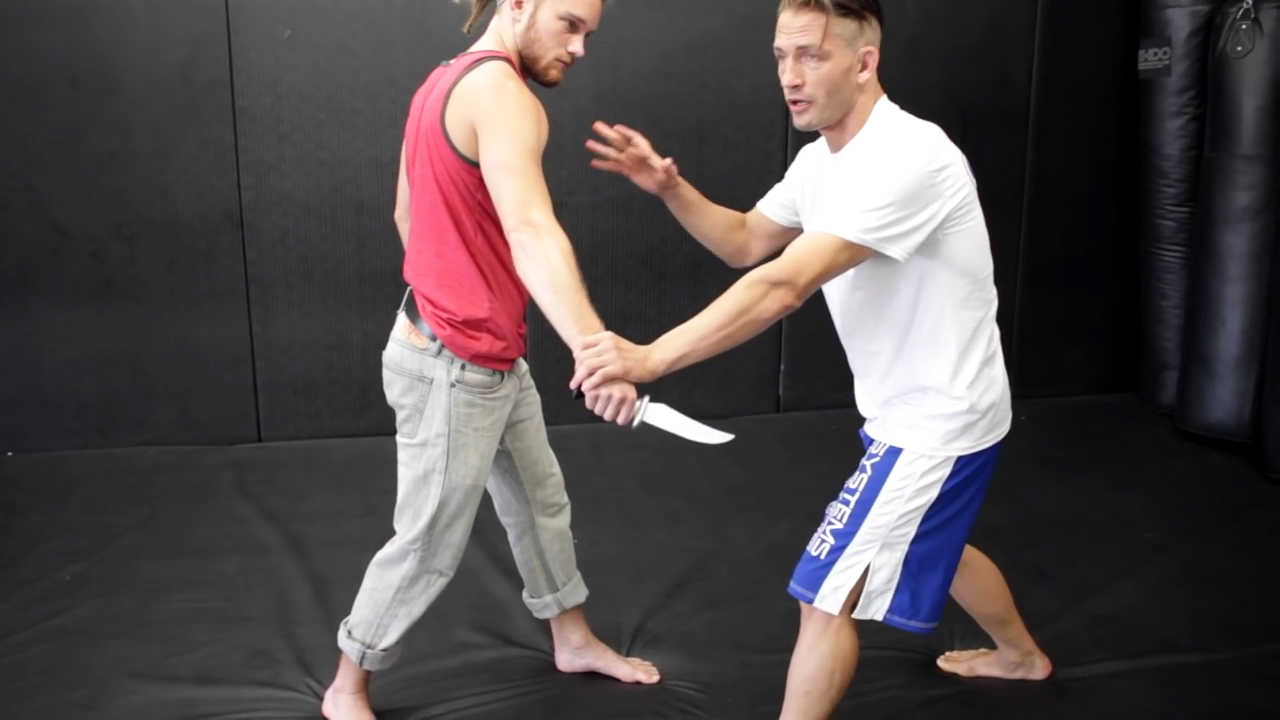knife: (570, 387, 743, 456)
